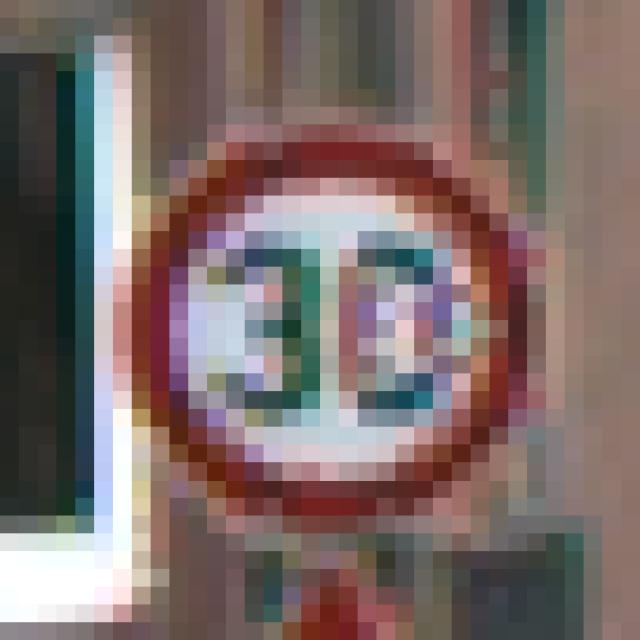Speed Limit -30-: (84, 98, 536, 524)
